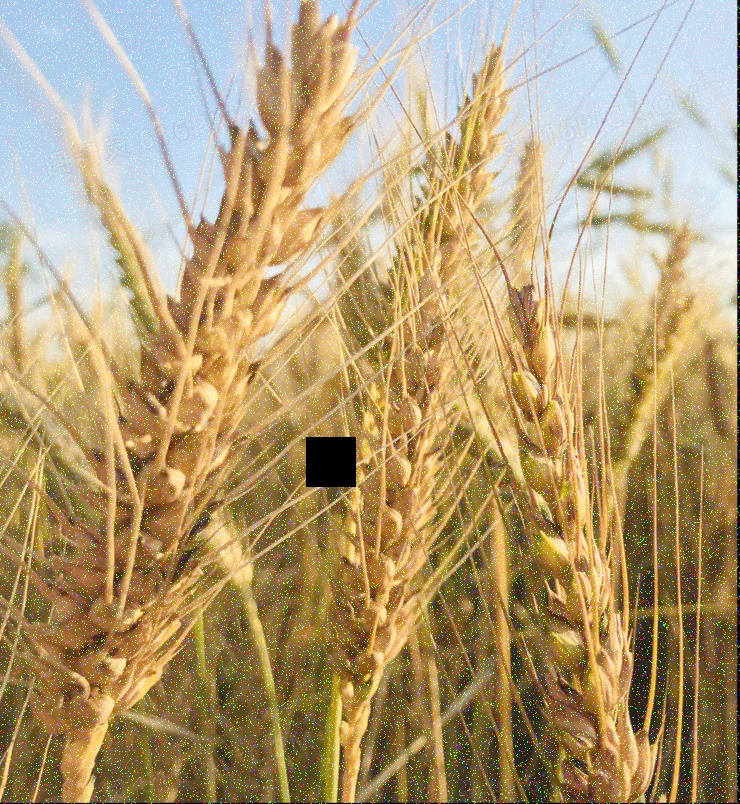wheat: (42, 22, 344, 749), (336, 104, 479, 720), (507, 302, 677, 801)
